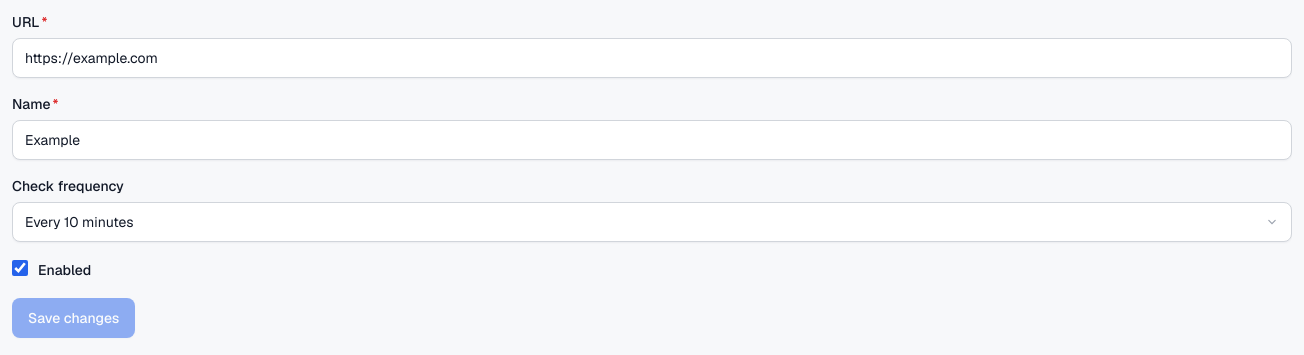
Test: SiteForm › edit mode › disables the submit button again after the changed field is reverted back to its original value
This screenshot has width=1304, height=355.
Replace the text in the field labelled "Name" with "Renamed": (652, 140) [12,120,1292,160]
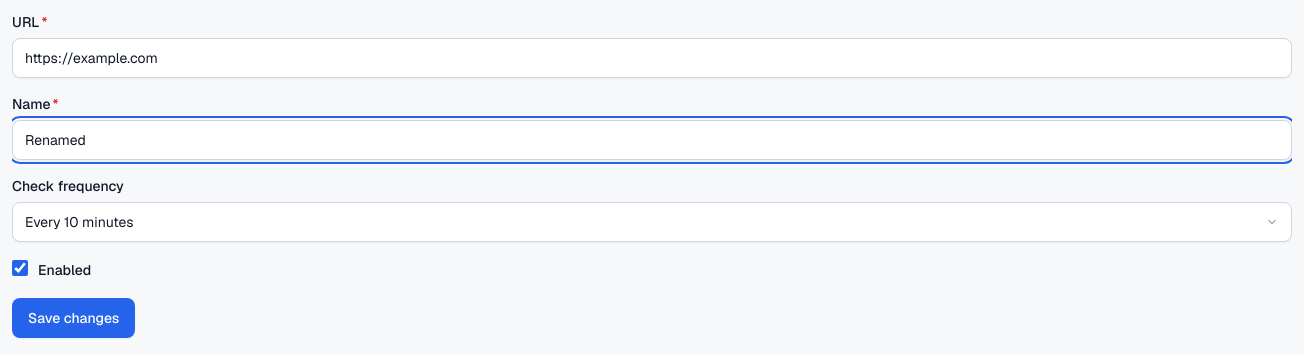
Now the button "Save changes" is enabled, box [12,298,135,338]
Replace the text in the field labelled "Name" with "Example": (652, 140) [12,120,1292,160]
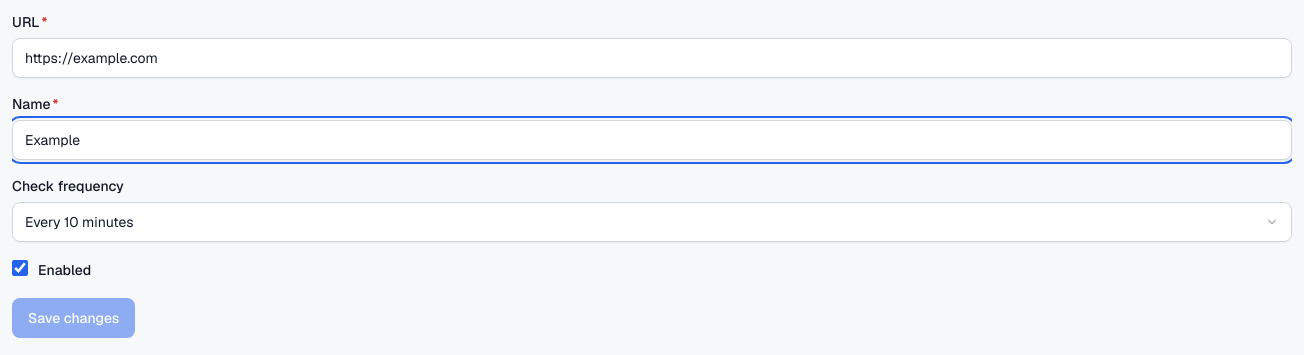
Now the button "Save changes" is disabled, box [12,298,135,338]
